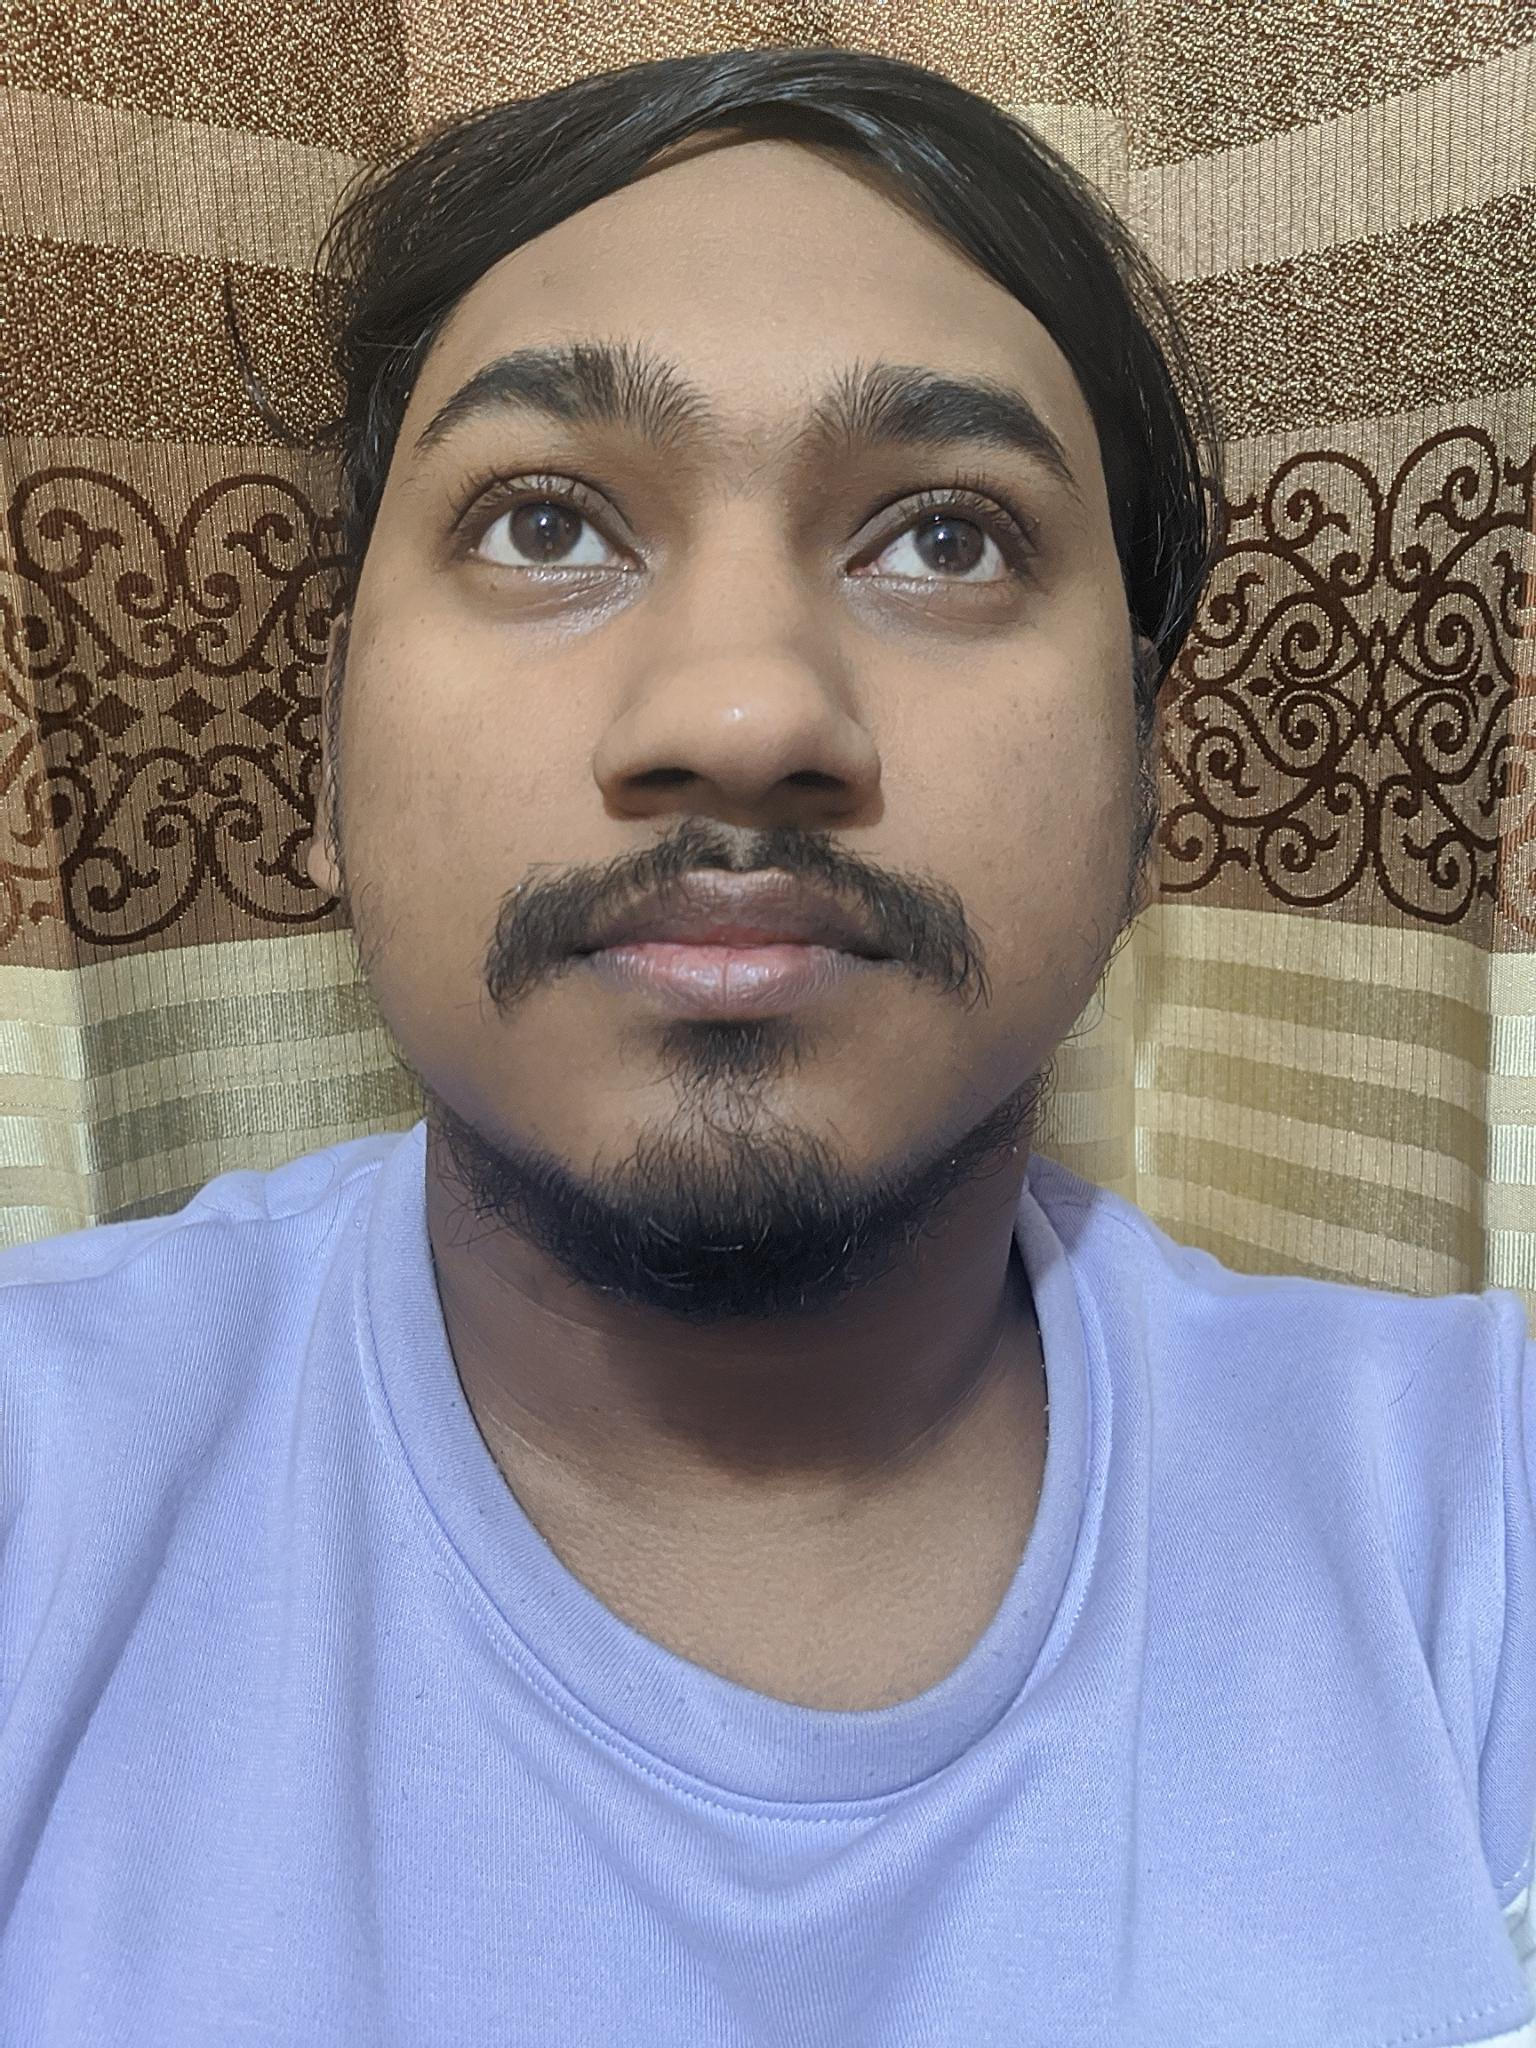Neutral: (331, 290, 1123, 1216)
